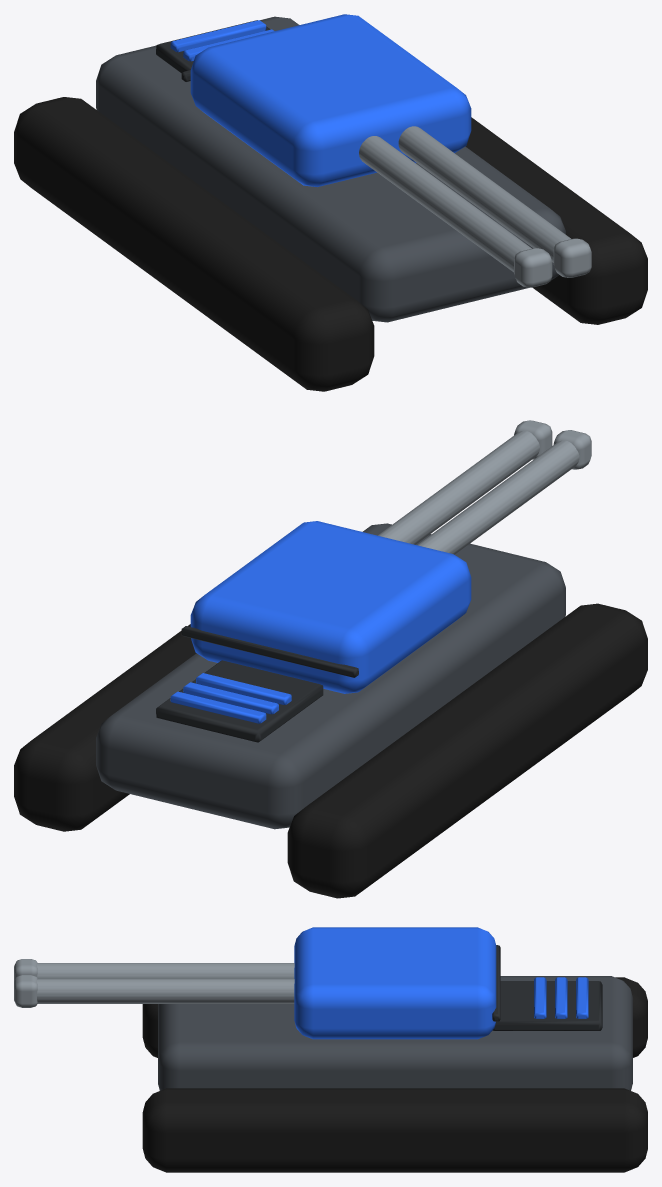
File: heavy_tank_legacy.glb
3 views of the same model, one above another, from view 1: azimuth 30°, elevation 25°; view 2: azimuth 150°, elevation 25°; view 3: azimuth 270°, elevation 25° (orthographic). The views are drawn at different scales.
Parts seen in each view (by area): view 1: heavy_tank__M_Licorice, heavy_tank__M_SmokePlastic, turret__M_Team, barrel__M_SpringSteel, heavy_tank__M_Team, heavy_tank__M_Dark; view 2: heavy_tank__M_Licorice, heavy_tank__M_SmokePlastic, turret__M_Team, barrel__M_SpringSteel, heavy_tank__M_Dark, heavy_tank__M_Team, turret__M_Dark; view 3: heavy_tank__M_Licorice, heavy_tank__M_SmokePlastic, turret__M_Team, barrel__M_SpringSteel, heavy_tank__M_Dark, heavy_tank__M_Team, turret__M_Dark.
Boxes of the visible parts, x1,y1,x2,y2 form: heavy_tank__M_Licorice: (14,97,647,391); heavy_tank__M_SmokePlastic: (96,16,565,322); turret__M_Team: (190,14,471,187); barrel__M_SpringSteel: (359,126,591,287); heavy_tank__M_Team: (170,20,274,61); heavy_tank__M_Dark: (156,20,270,72); heavy_tank__M_Licorice: (14,603,647,898); heavy_tank__M_SmokePlastic: (96,523,565,829); turret__M_Team: (190,521,471,693); barrel__M_SpringSteel: (378,420,591,554); heavy_tank__M_Dark: (156,660,323,742); heavy_tank__M_Team: (170,673,291,723); turret__M_Dark: (181,626,358,677); heavy_tank__M_Licorice: (142,977,647,1172); heavy_tank__M_SmokePlastic: (158,976,632,1090); turret__M_Team: (294,927,496,1039); barrel__M_SpringSteel: (14,959,294,1007); heavy_tank__M_Dark: (492,981,602,1030); heavy_tank__M_Team: (534,977,588,1018); turret__M_Dark: (492,945,500,1021).
Size of the model in its own units: 0.8 by 0.4 by 1.51.
